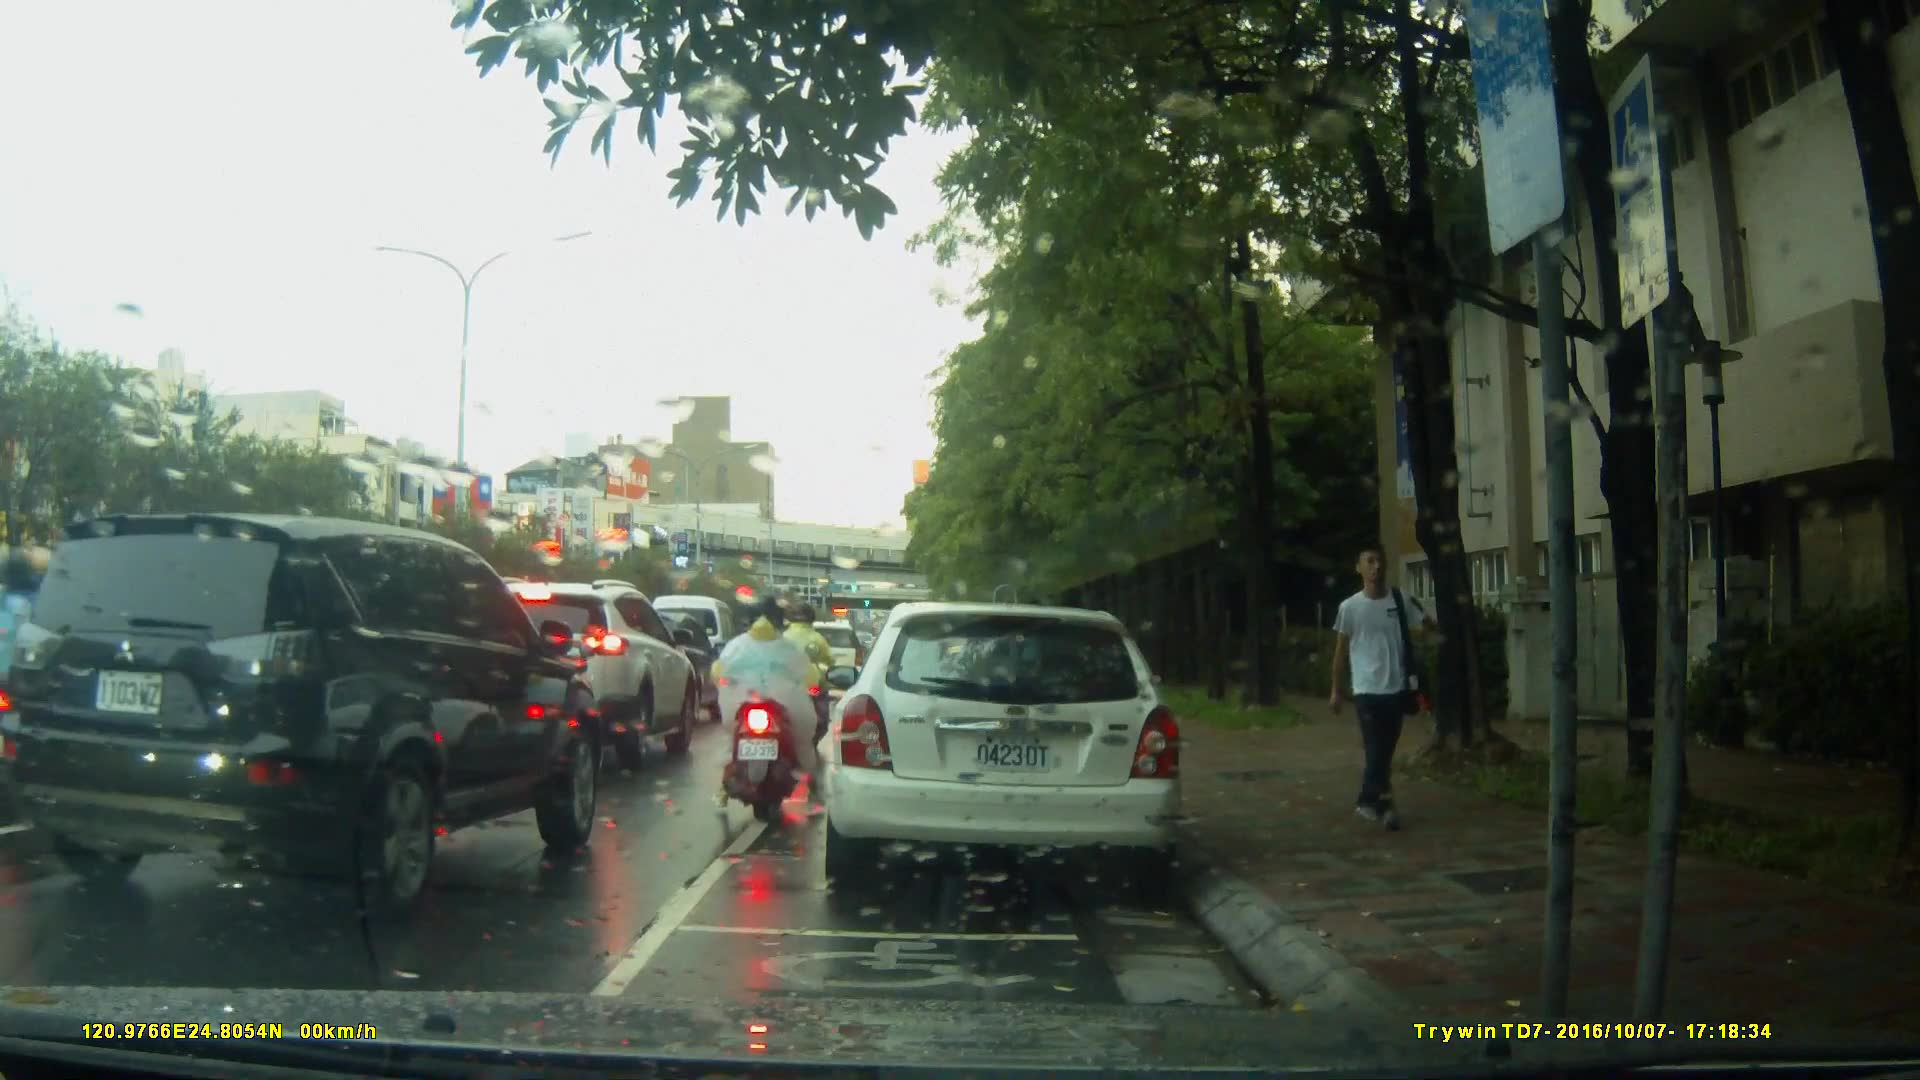pedestrian: (1317, 536, 1435, 840)
rider: (708, 600, 819, 825), (765, 601, 841, 747)
vehicle: (18, 513, 613, 913), (820, 602, 1188, 898), (426, 575, 704, 765), (638, 593, 749, 708), (773, 619, 868, 704)
